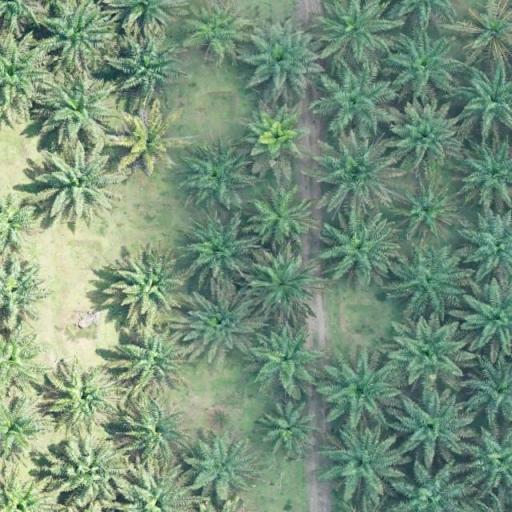Ganoderma: (250, 116, 297, 154)
